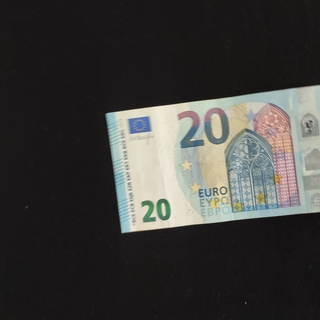20EUROFront: (105, 83, 320, 233)
